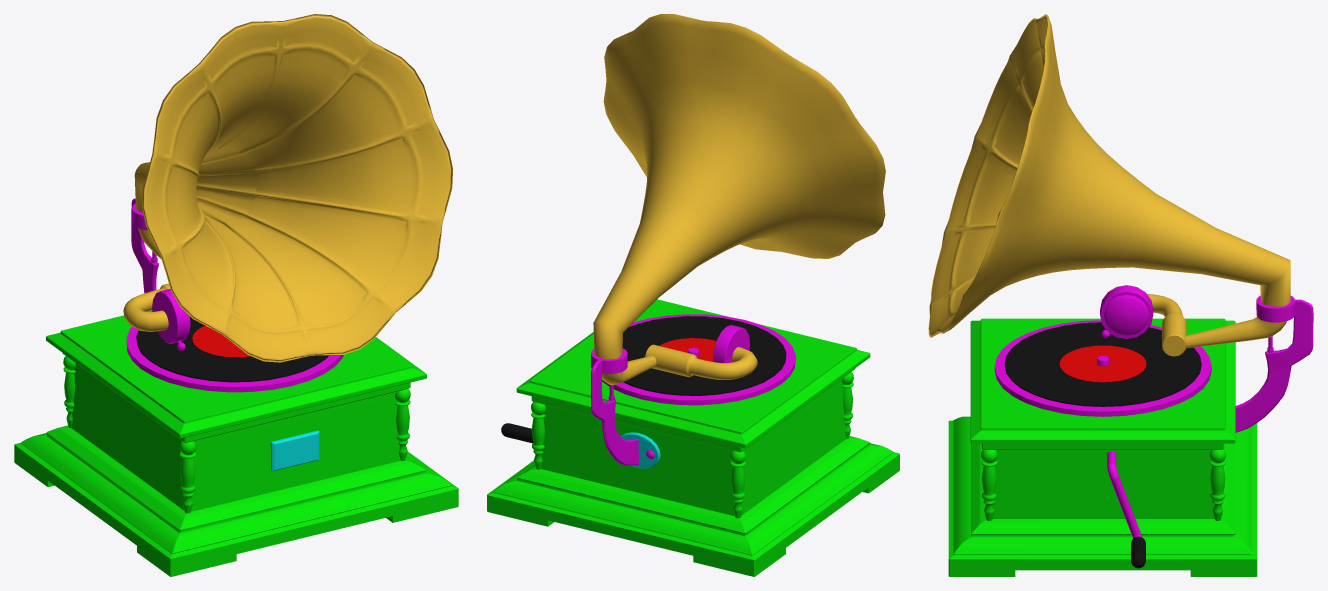
File: gramophone.fbx
3 renders of one model, left to right at view 1: azimuth 30°, elevation 25°; view 2: azimuth 150°, elevation 25°; view 3: azimuth 270°, elevation 25°, orthographic. The views are drawn at different scales.
Visible parts, largest first — view 1: horn, gramophoneBase, vinylRecord, turntable, brassPlate, soundBoxTube, soundBox, bracket, frontPillar_r, frontPillar_l, backPillar_r; view 2: horn, gramophoneBase, vinylRecord, turntable, bracket, soundBoxTube, soundBox, backPillar_r, backPillar_l, metalPlate, frontPillar_r; view 3: gramophoneBase, horn, vinylRecord, bracket, turntable, soundBox, soundBoxTube, backPillar_l, frontPillar_l, rod.
Part boxes in pixels (x1,y1,x2,y2): horn: (134, 14, 452, 362); gramophoneBase: (14, 310, 458, 576); vinylRecord: (136, 316, 329, 382); turntable: (126, 311, 343, 392); brassPlate: (270, 430, 319, 471); soundBoxTube: (123, 283, 170, 331); soundBox: (152, 289, 190, 343); bracket: (131, 198, 158, 293); frontPillar_r: (179, 441, 196, 513); frontPillar_l: (395, 389, 410, 460); backPillar_r: (63, 356, 75, 428); horn: (593, 14, 885, 385); gramophoneBase: (487, 299, 899, 576); vinylRecord: (622, 316, 786, 395); turntable: (593, 314, 795, 405); bracket: (591, 348, 638, 465); soundBoxTube: (645, 344, 757, 379); soundBox: (713, 325, 749, 362); backPillar_r: (730, 450, 745, 518); backPillar_l: (531, 402, 545, 469); metalPlate: (621, 432, 660, 468); frontPillar_r: (842, 372, 853, 438); gramophoneBase: (948, 318, 1257, 576); horn: (928, 14, 1290, 348); vinylRecord: (1004, 322, 1201, 406); bracket: (1235, 295, 1313, 432); turntable: (994, 320, 1211, 416); soundBox: (1100, 285, 1153, 338); soundBoxTube: (1147, 294, 1186, 356); backPillar_l: (1209, 449, 1225, 520); frontPillar_l: (981, 449, 997, 520); rod: (1107, 451, 1141, 538).
Size of the model in its own units: 5.95 by 8.2 by 5.97.
